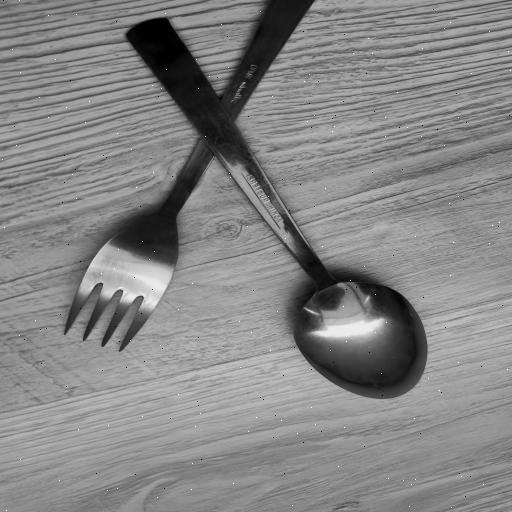fork: (64, 0, 326, 356)
spoon: (129, 22, 433, 405)
